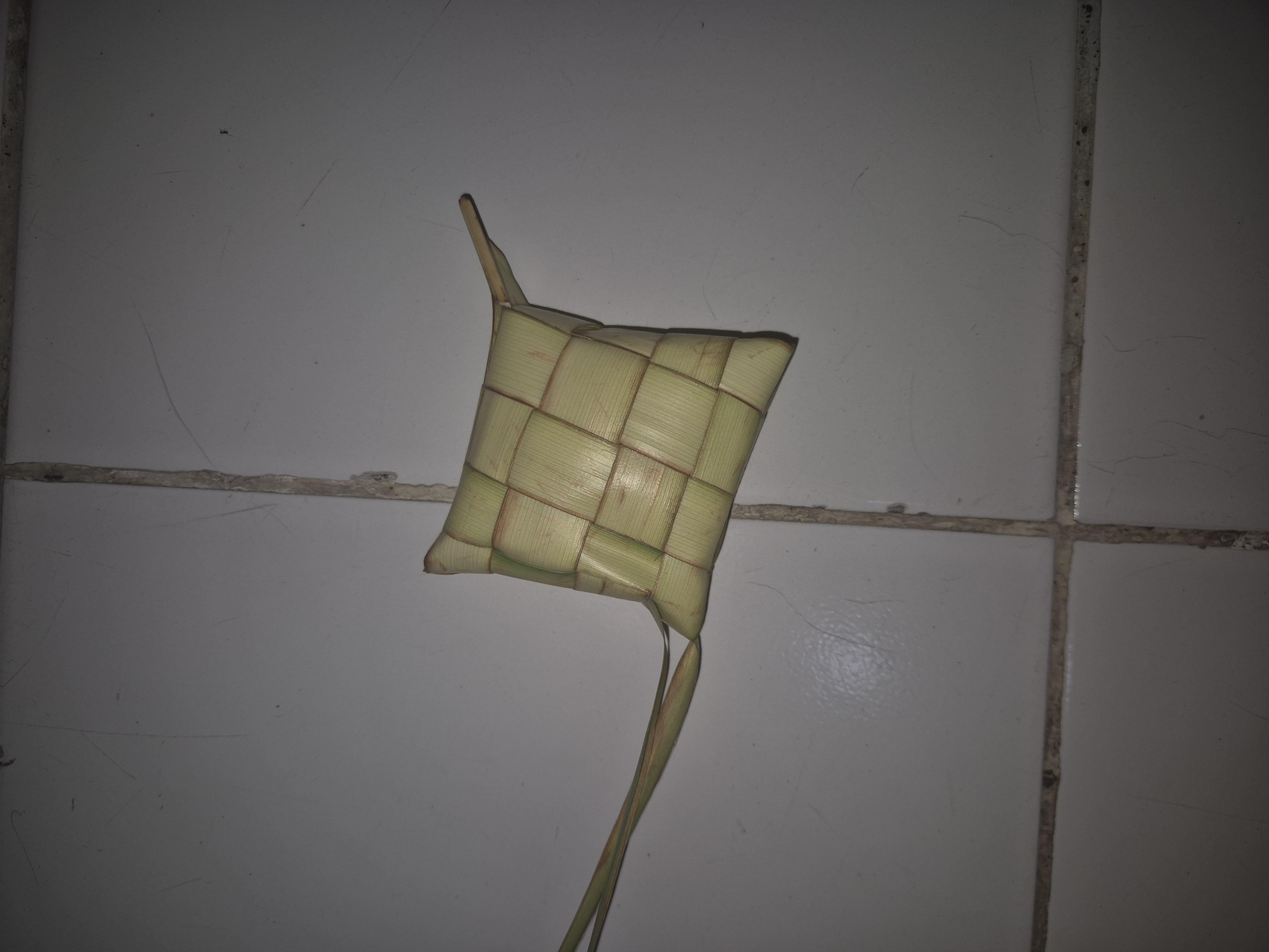Tipat Nasi: (455, 320, 862, 595)
